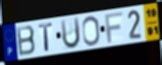2: (127, 9, 143, 40)
B: (15, 24, 37, 57)
F: (104, 11, 124, 44)
O: (81, 15, 101, 47)
T: (38, 21, 54, 53)
U: (59, 16, 81, 51)
